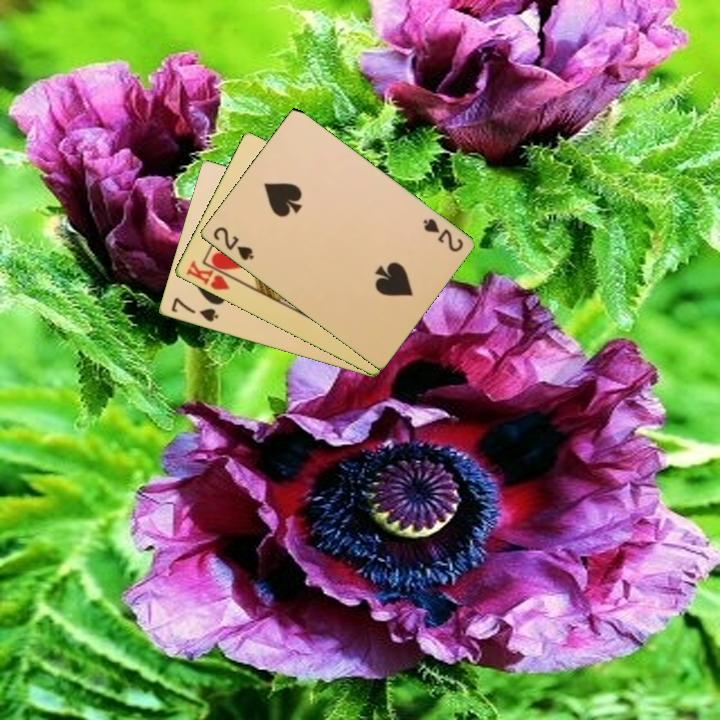2s: (209, 223, 256, 263), (419, 215, 466, 255)
7s: (167, 294, 221, 325)
Kh: (182, 257, 239, 293)
